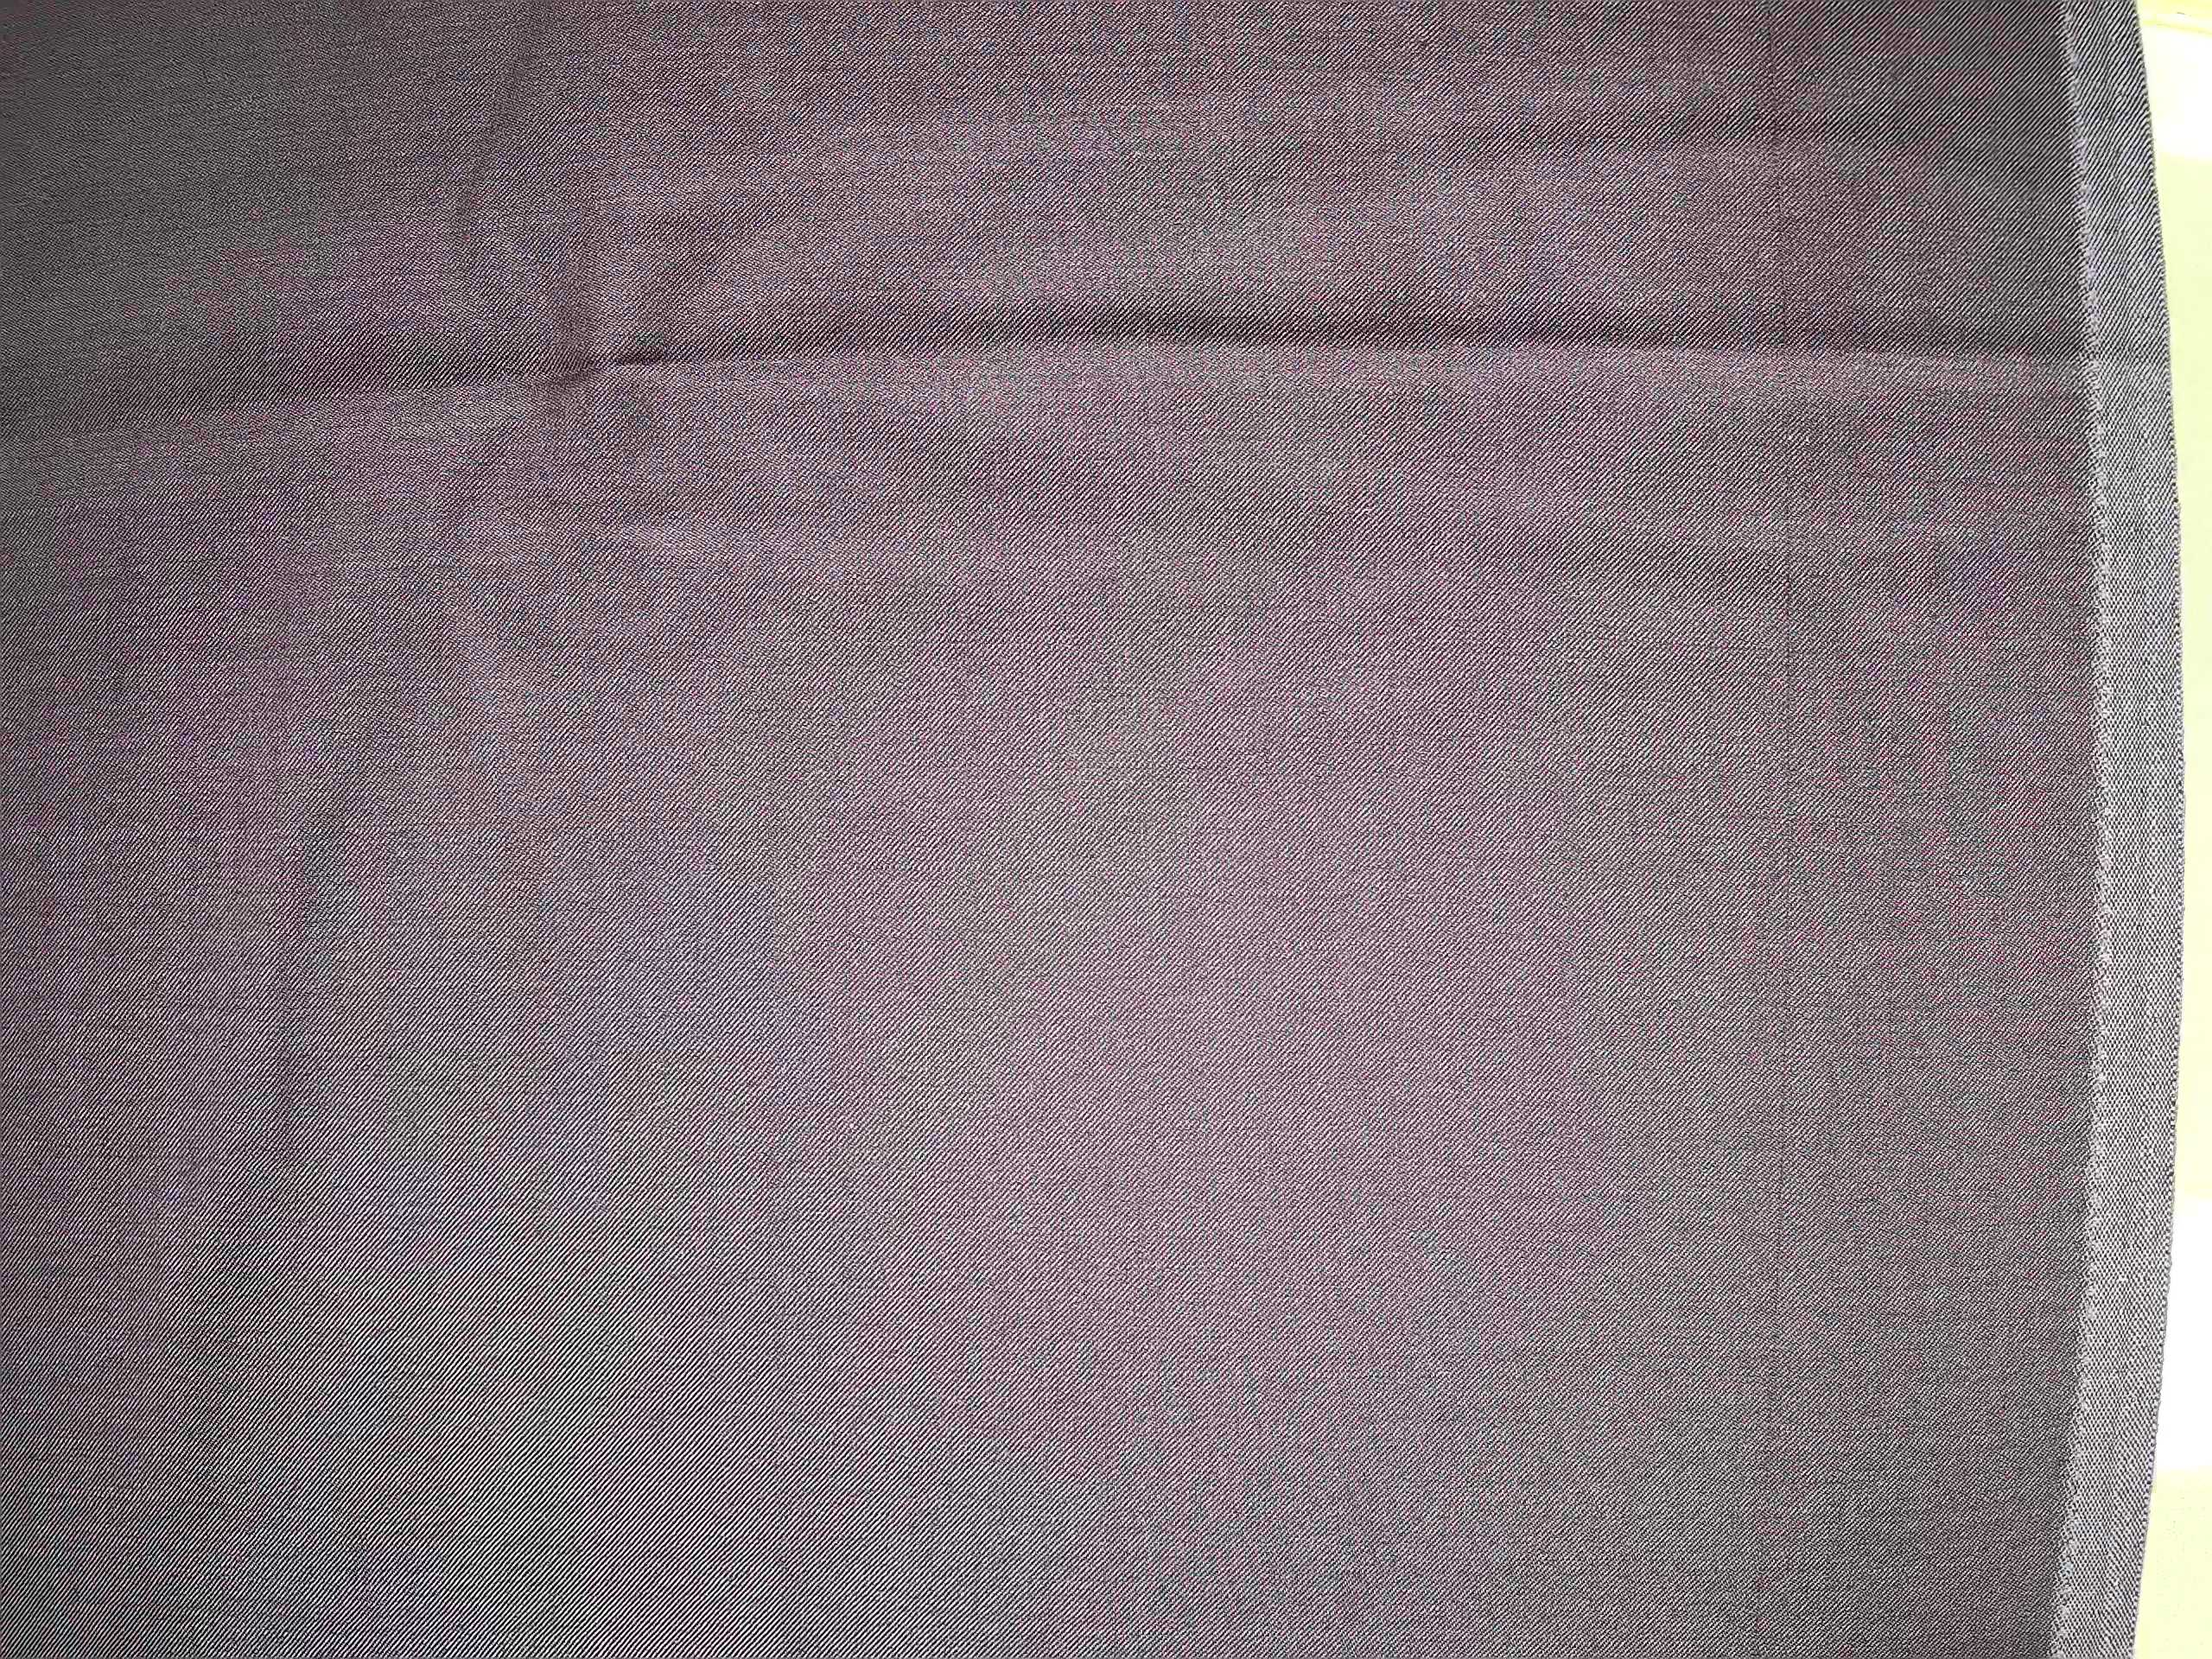others: (1747, 26, 1811, 1622)
